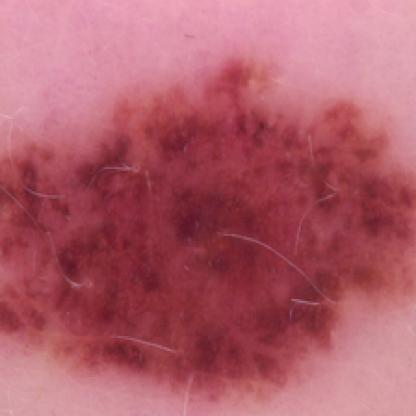benign: (0, 85, 413, 376)
